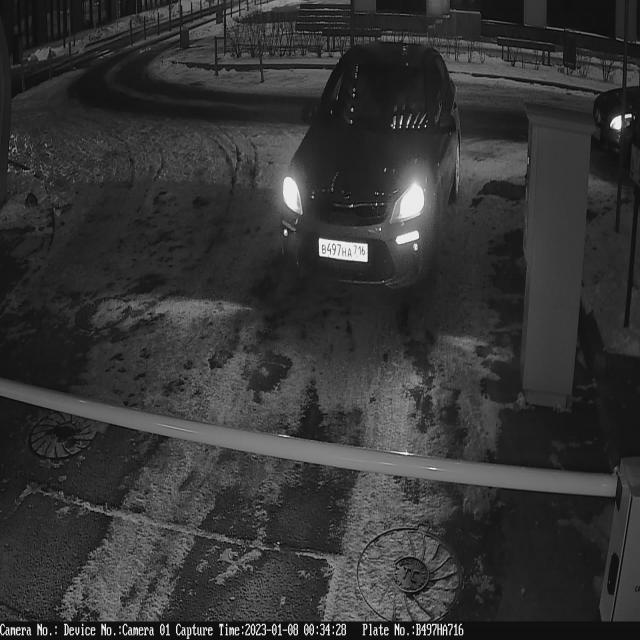car-plate-numbers: (318, 234, 372, 267)
